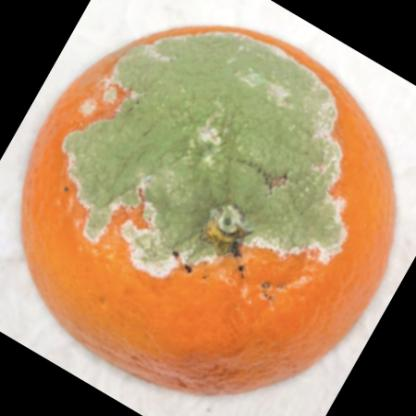rotten: (23, 26, 398, 395)
